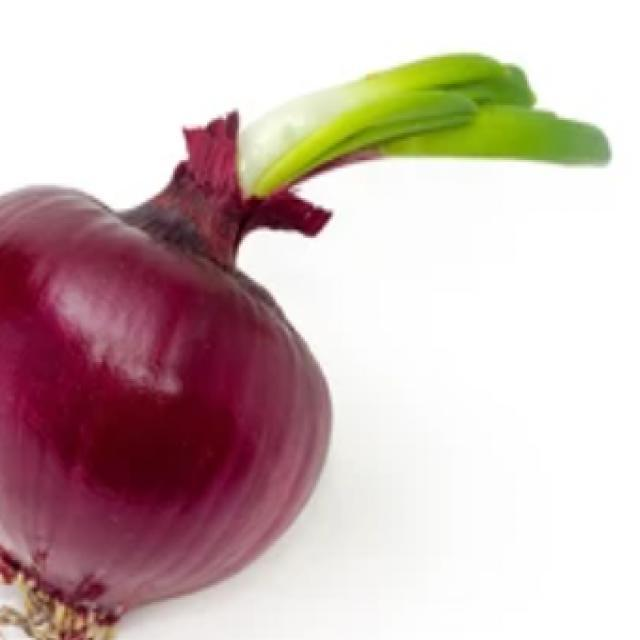sprouting: (165, 40, 640, 233)
